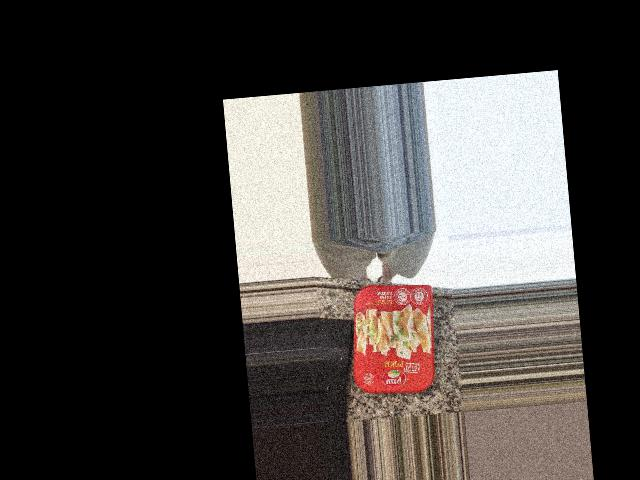cheese: (332, 259, 429, 376)
